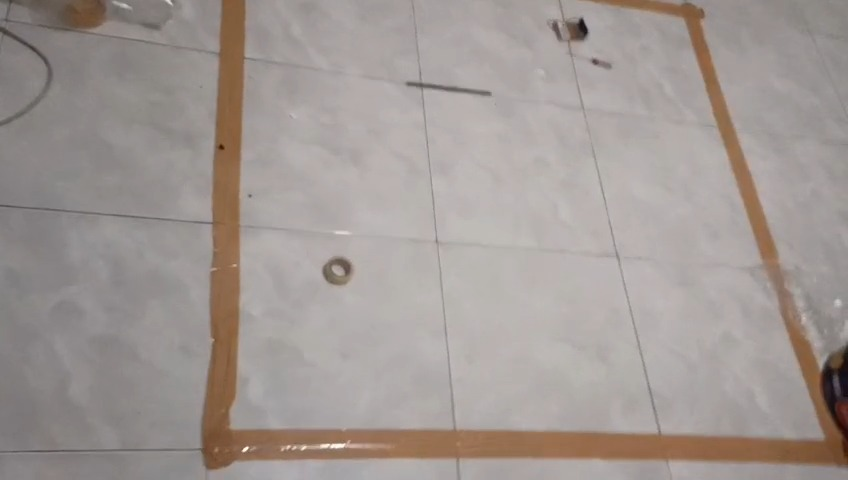floor marking: (202, 0, 843, 469), (588, 0, 819, 400)
